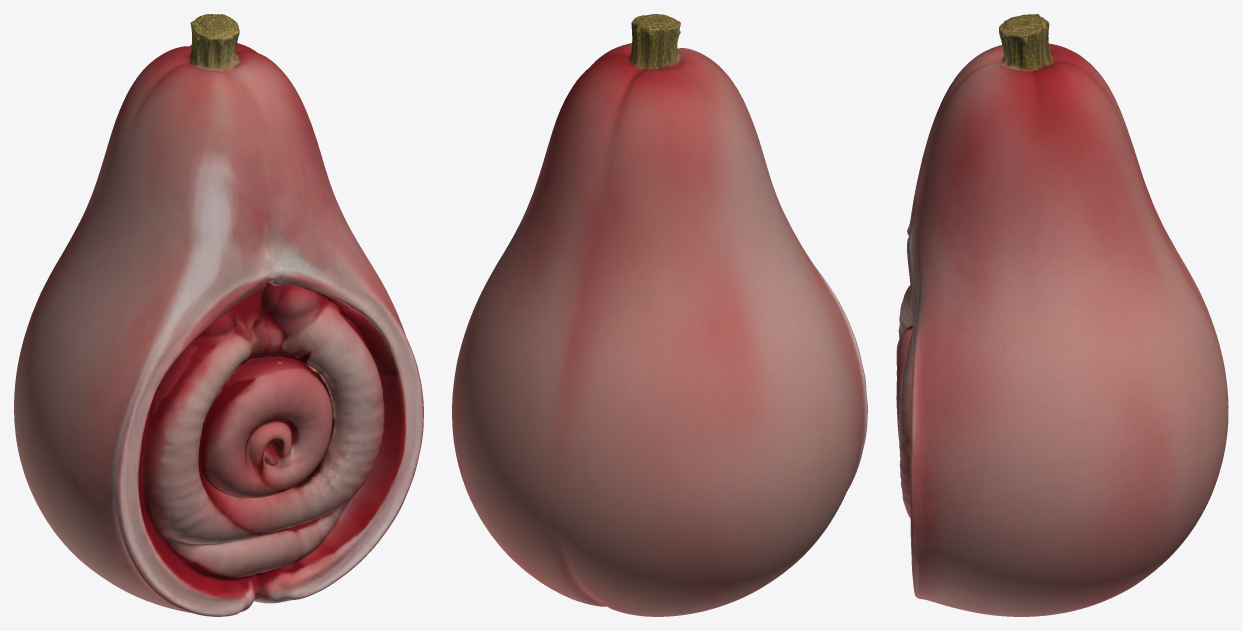
Rendered from cow_abomasum.glb.
3 renders of one model, left to right at view 1: azimuth 30°, elevation 25°; view 2: azimuth 150°, elevation 25°; view 3: azimuth 270°, elevation 25°, orthographic.
Parts seen in each view (by area): view 1: model; view 2: model; view 3: model.
Boxes of the visible parts, <box> form: model: <box>14,14,423,616</box>; model: <box>452,14,867,616</box>; model: <box>896,14,1228,616</box>.
Size of the model in its own units: 1.22 by 1.9 by 0.9963.
Materials: 1 (1 with a texture image).
